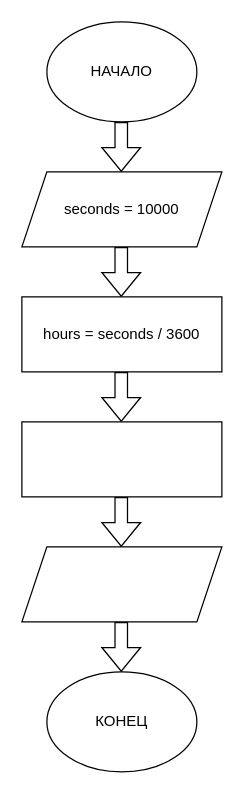
Some shapes in this 244 by 794 pixel diagram are drawn without their labels. The centre of each missing label's shape, as x and y in pixels:
minutes = (seconds % 3600) / 60: (121,459)
Вывести seconds, hours, minutes: (121,584)
